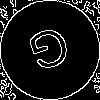G: (25, 25, 76, 81)
